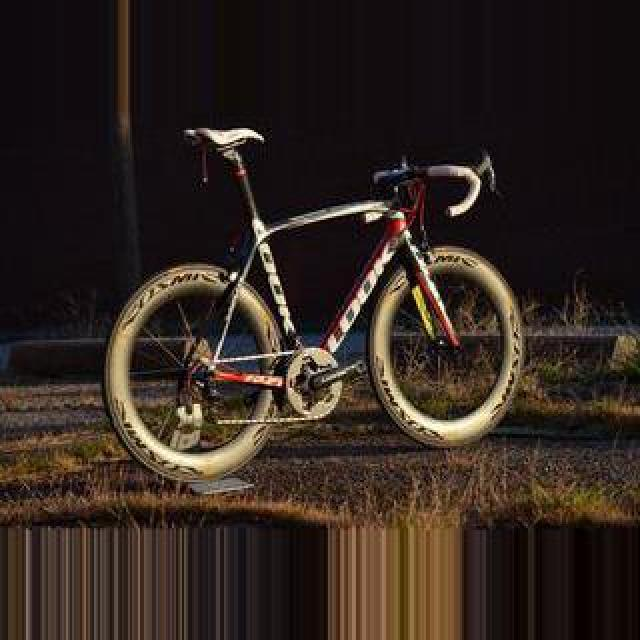Person: (86, 126, 534, 468)
